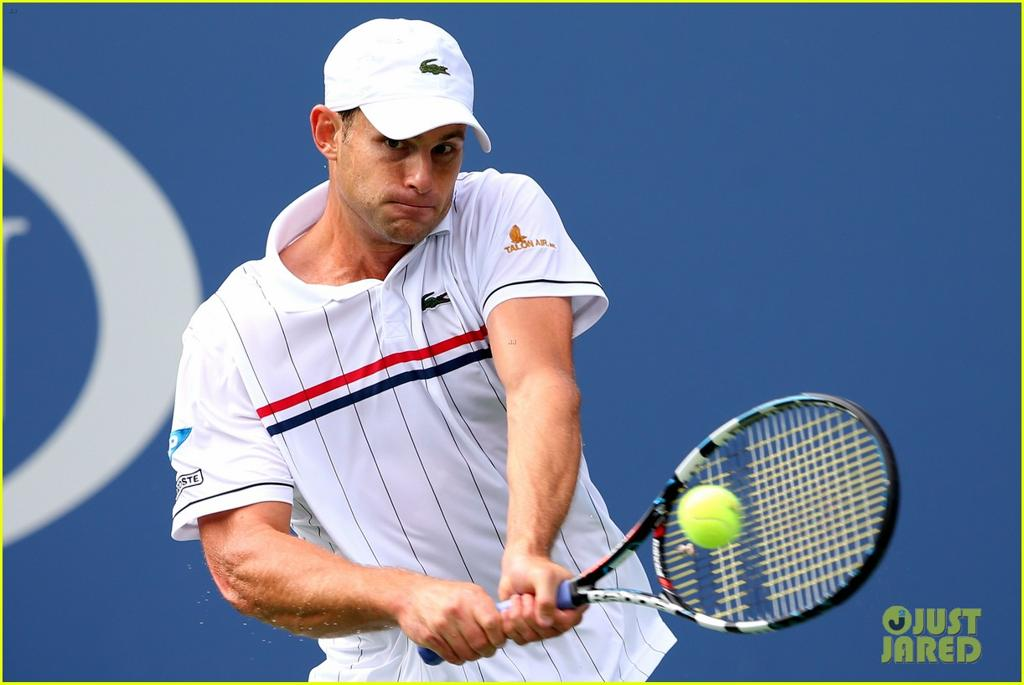face: (344, 102, 466, 242)
